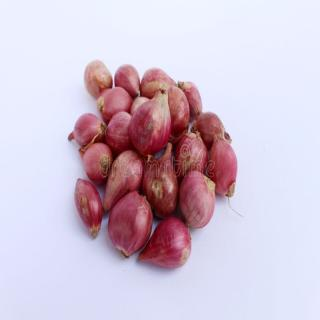Bawang Merah: (69, 59, 244, 270)
